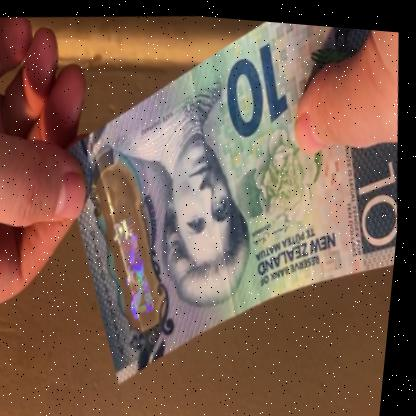10B: (104, 199, 173, 325)
